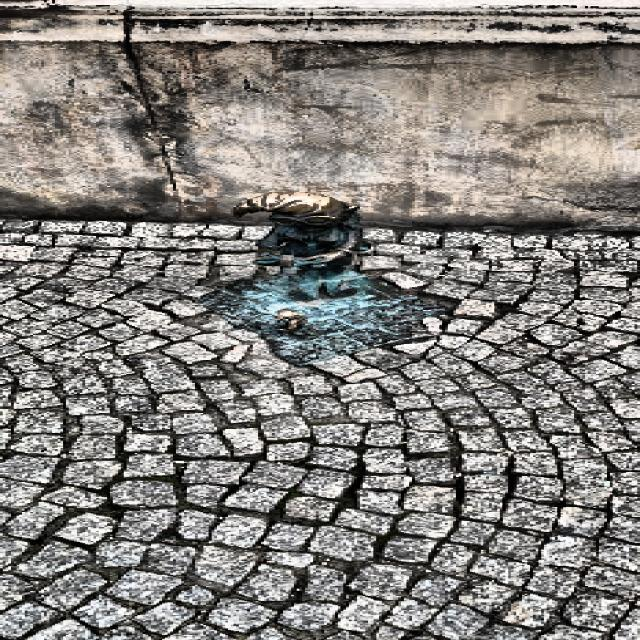Troszka i Adoratorek: (203, 195, 445, 366)
